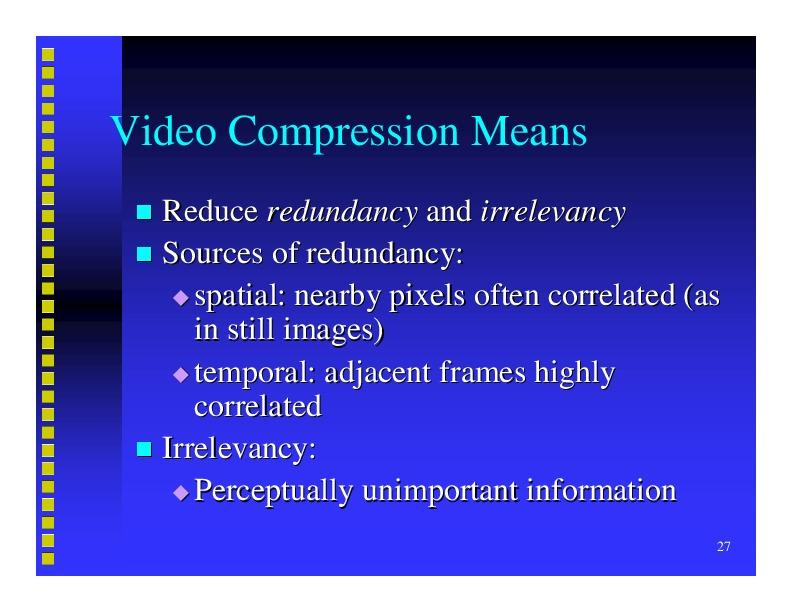paragraph: (126, 186, 726, 522)
title: (110, 105, 599, 160)
